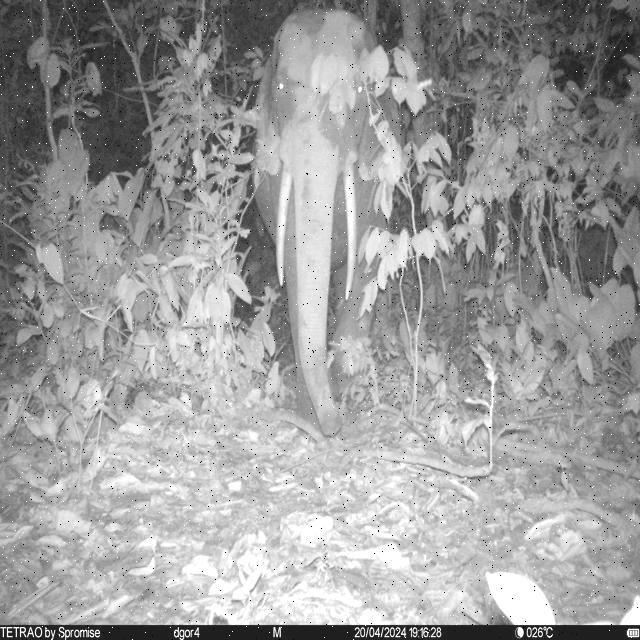elephant: (250, 11, 408, 443)
tusk: (274, 162, 294, 286), (342, 162, 356, 302)
